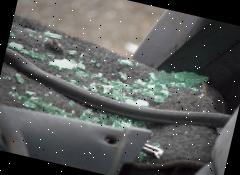glass: (87, 47, 210, 120)
